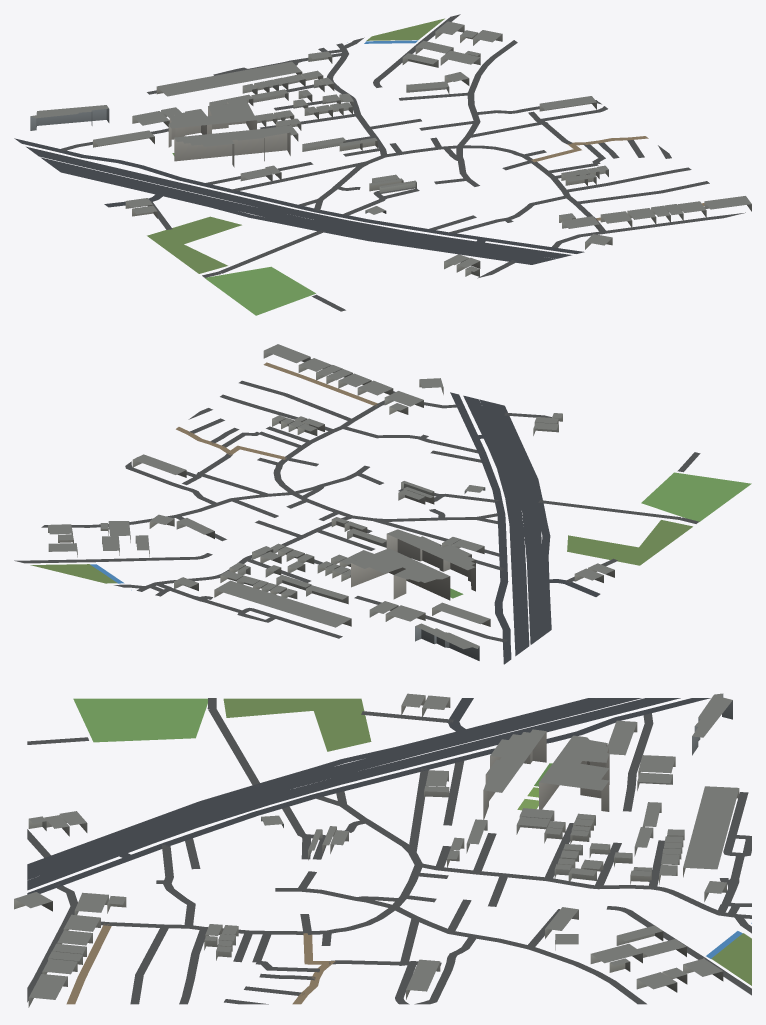
3 views of the same model, one above another, from view 1: azimuth 30°, elevation 25°; view 2: azimuth 150°, elevation 25°; view 3: azimuth 270°, elevation 25° (orthographic). The views are drawn at different scales.
Parts seen in each view (by area): view 1: ground, building; view 2: ground, building; view 3: ground, building.
Part boxes in pixels (x1,y1,x2,y2): ground: (14,14,745,315); building: (30,21,751,276); ground: (14,362,751,664); building: (48,344,614,660); ground: (27,698,751,1004); building: (14,693,739,1007).
Bounding box in the file's own units: 508 × 24 × 509.
